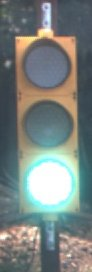Green: (6, 23, 82, 221)
